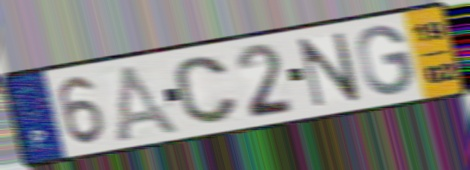2: (234, 41, 297, 120)
6: (56, 74, 108, 147)
A: (110, 60, 185, 142)
C: (172, 54, 242, 127)
G: (354, 23, 416, 98)
N: (295, 29, 363, 110)
